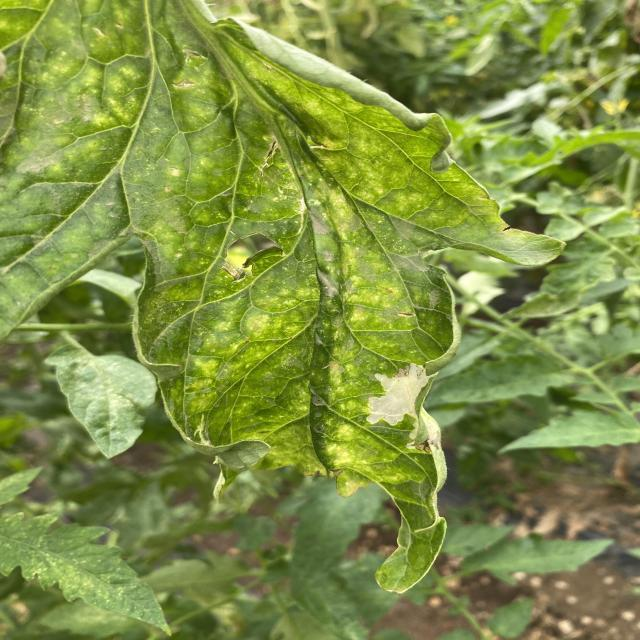Tuta absoluta: (363, 355, 435, 435)
